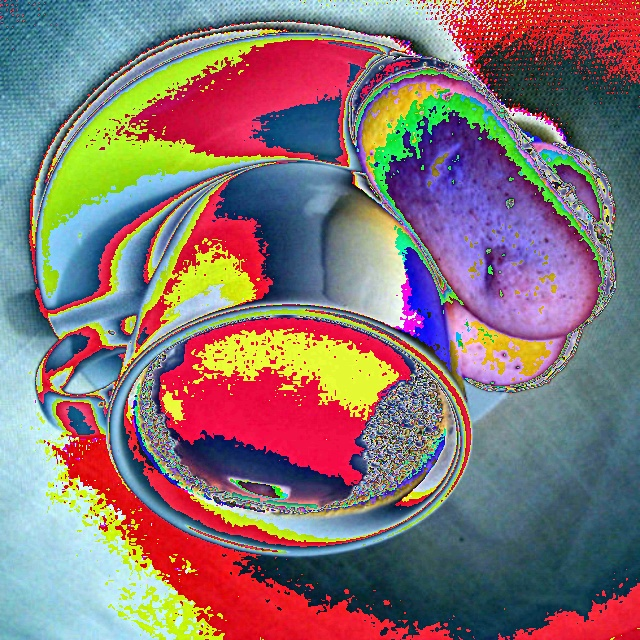background: (268, 57, 617, 392), (133, 203, 453, 517)
